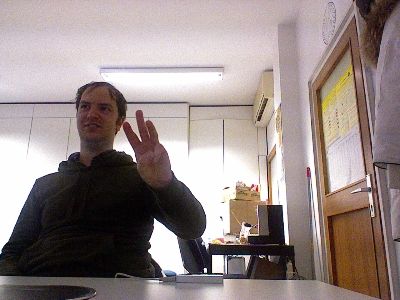三分: (120, 108, 174, 187)
